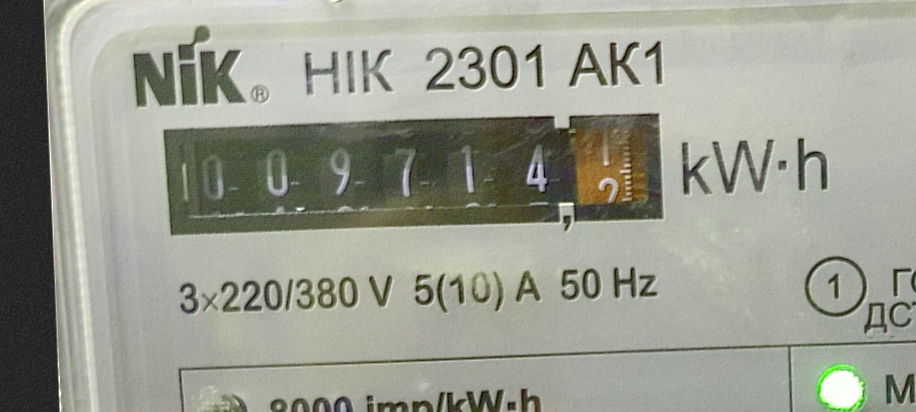0: (197, 150, 228, 205), (262, 144, 290, 199)
1: (456, 140, 480, 196), (596, 125, 612, 168)
2: (595, 173, 620, 204)
4: (520, 141, 551, 196)
7: (391, 145, 419, 199)
9: (324, 144, 354, 198)
screen: (147, 94, 681, 257)
